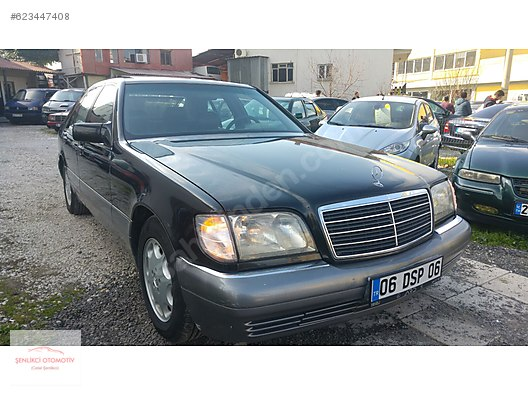m: (56, 68, 475, 344)
